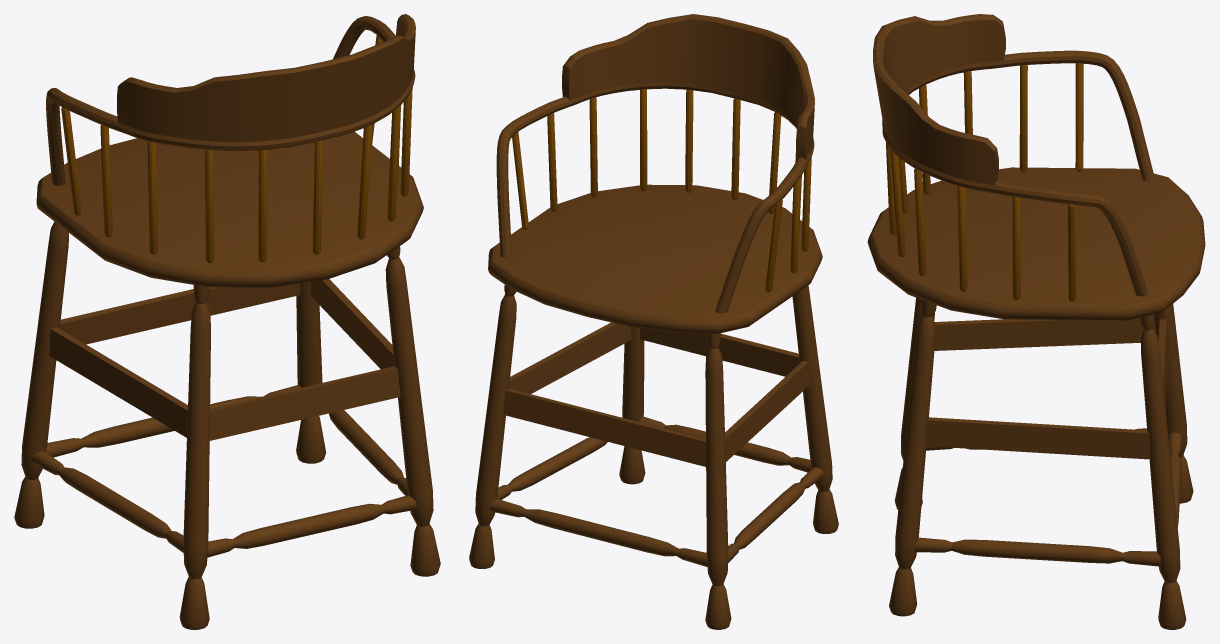
The model's file is chair01.gltf.
3 views of the same model, side by side, from view 1: azimuth 30°, elevation 25°; view 2: azimuth 150°, elevation 25°; view 3: azimuth 270°, elevation 25° (orthographic). The views are drawn at different scales.
Parts seen in each view (by area): view 1: Cylinder008_Colours_0; view 2: Cylinder008_Colours_0; view 3: Cylinder008_Colours_0.
Part boxes in pixels (<box>): Cylinder008_Colours_0: <box>14,14,440,629</box>; Cylinder008_Colours_0: <box>469,14,838,629</box>; Cylinder008_Colours_0: <box>867,14,1205,629</box>.
Bounding box in the file's own units: 12.07 × 19.55 × 11.75.
1 material, 1 textured.
